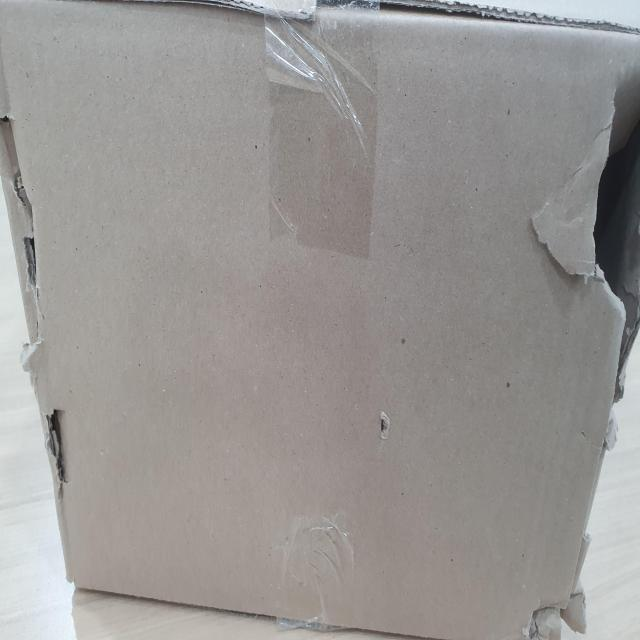damaged: (587, 28, 640, 381), (40, 402, 70, 492)
